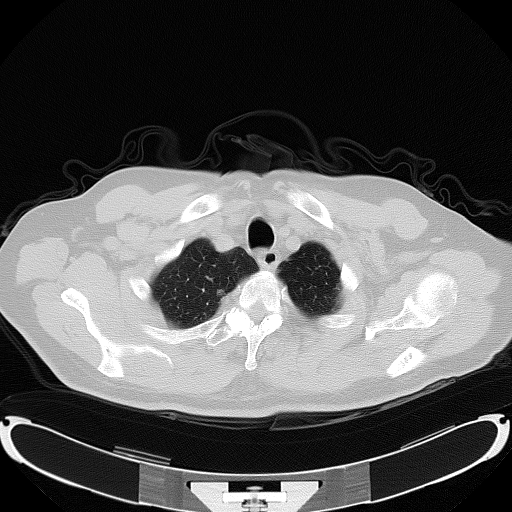nodule: (216, 288, 226, 297)
